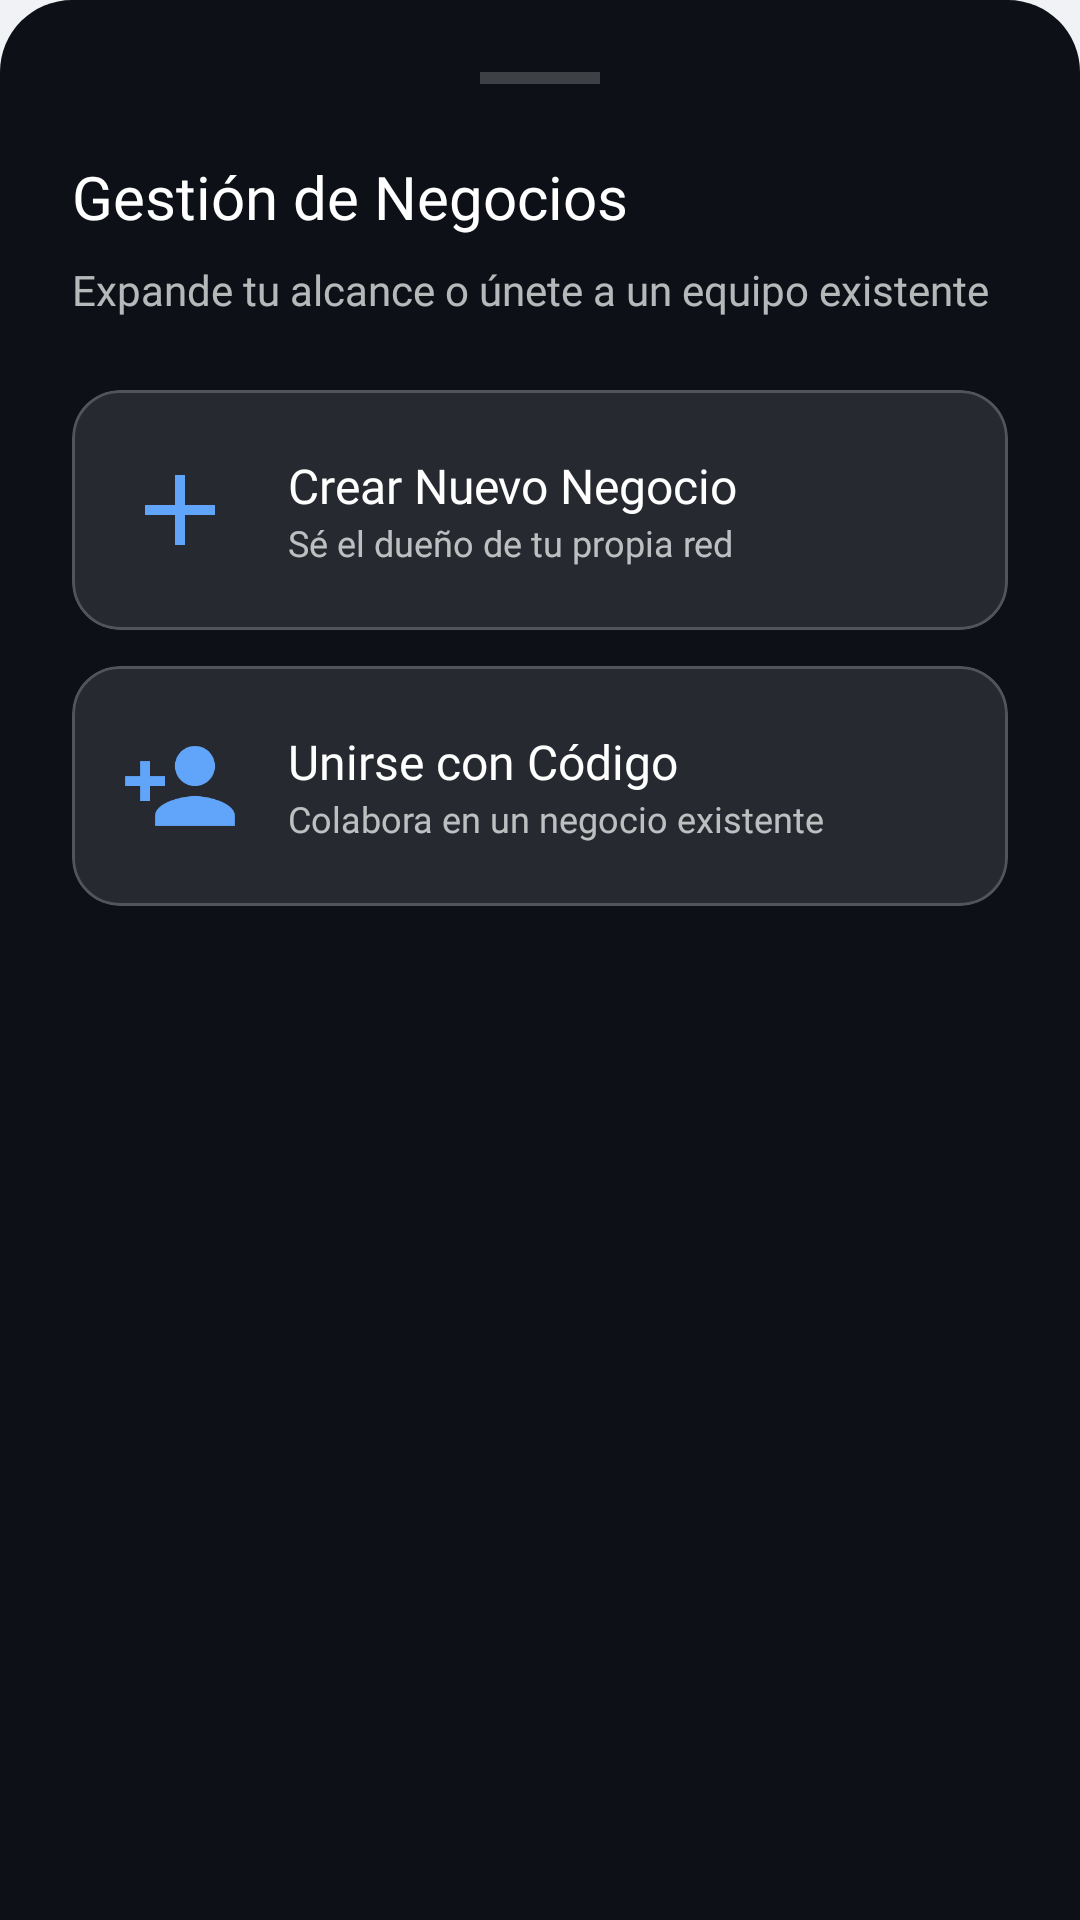

Icon click points for this 1080w x 1920h phone screenshot, format (x=x, y=y):
invitacionnegocio: (x=180, y=786)
plus: (x=180, y=510)
